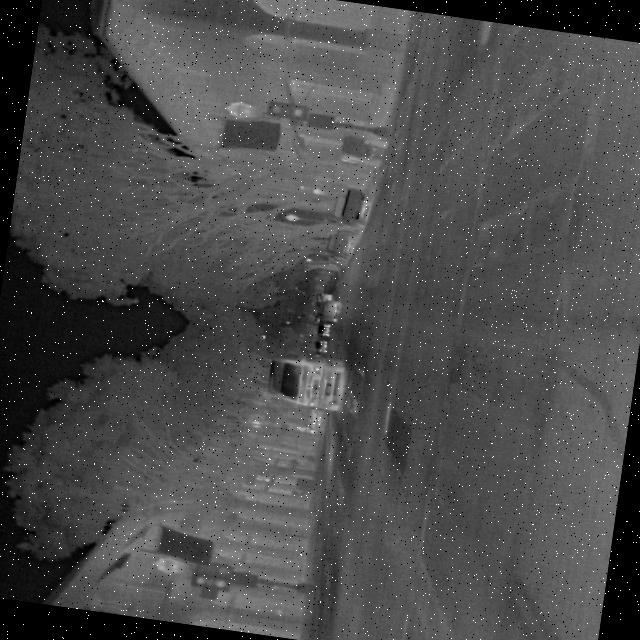Vehicle: (262, 346, 350, 414), (315, 298, 342, 324)
